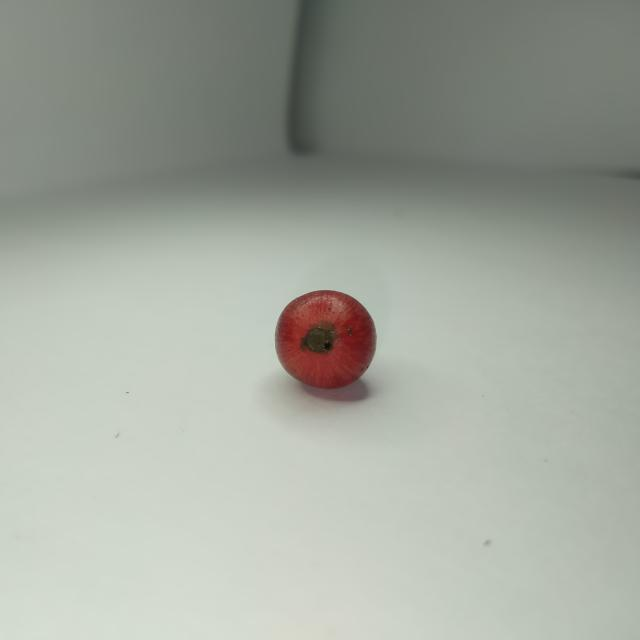Infectado: (276, 290, 376, 392)
